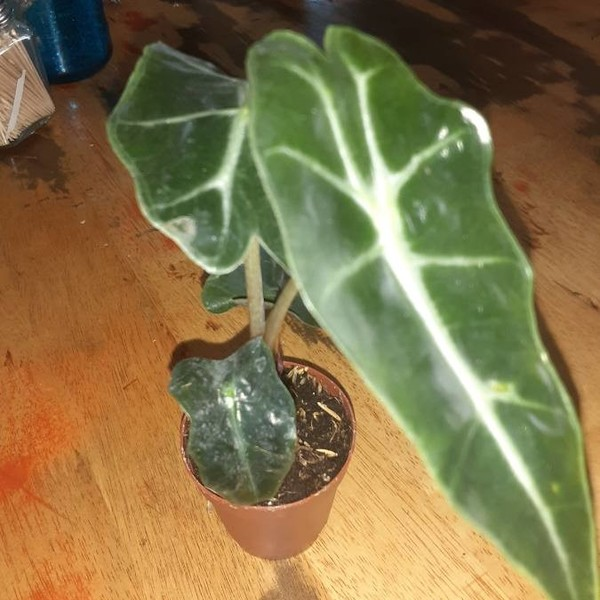obstacle: (121, 28, 590, 583)
